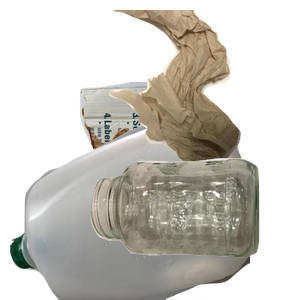cardboard: (77, 79, 251, 227)
glass: (88, 156, 300, 300)
plastic: (10, 120, 250, 300)
trash: (103, 10, 300, 173)
